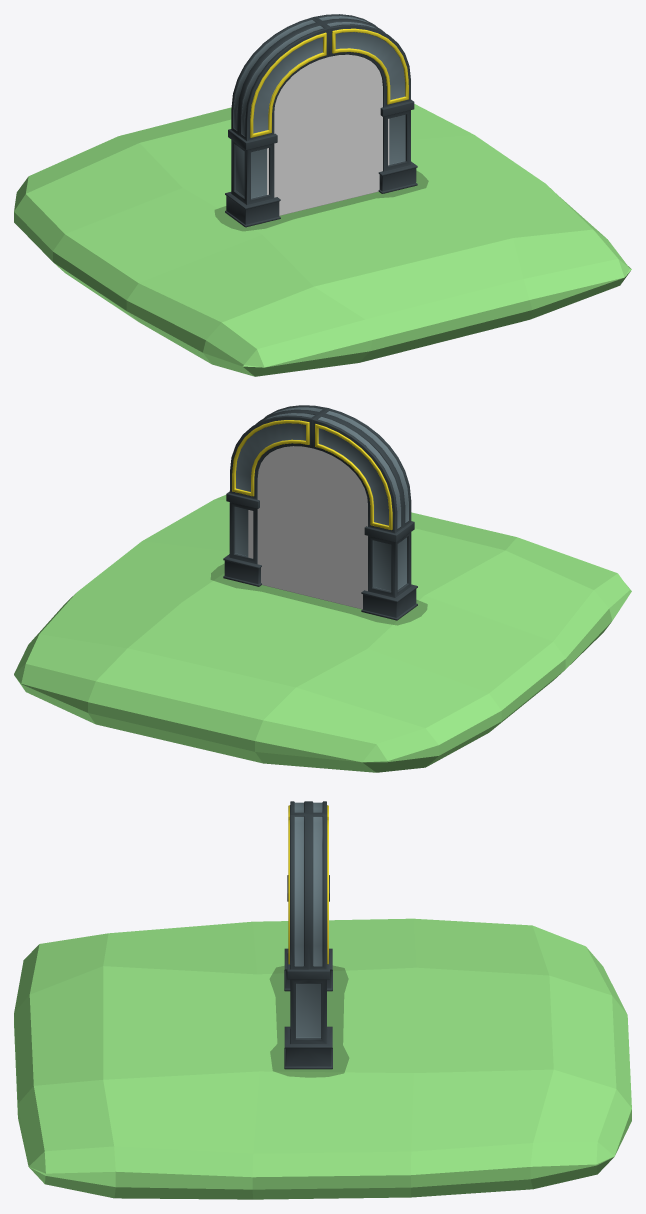
Rendered from FogDoor.glb.
3 renders of one model, top to bottom at view 1: azimuth 30°, elevation 25°; view 2: azimuth 150°, elevation 25°; view 3: azimuth 270°, elevation 25°, orthographic. The views are drawn at different scales.
Visible parts, largest first — view 1: Plane, Cube, FogDoor, Plane.001; view 2: Plane, Cube, FogDoor, Plane.001; view 3: Plane, Cube, Plane.001.
Part boxes in pixels (x1,y1,x2,y2): Plane: (14,104,631,376); Cube: (225,14,417,227); FogDoor: (267,54,389,215); Plane.001: (215,171,428,230); Plane: (14,495,631,772); Cube: (223,405,417,620); FogDoor: (248,446,367,609); Plane.001: (211,564,427,625); Plane: (14,918,631,1199); Cube: (284,801,332,1069); Plane.001: (270,966,348,1077).
Bounding box in the file's own units: 5.09 × 2.76 × 5.34.
Materials: 3 (1 with a texture image).
